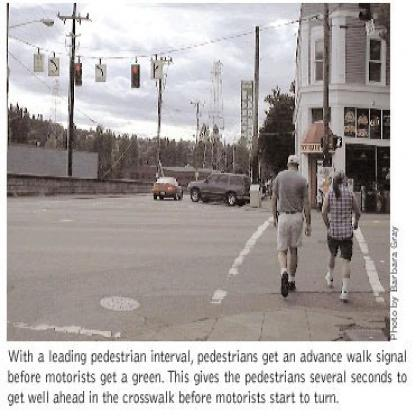Traffic Signal: (130, 63, 140, 89)
Walk: (333, 137, 344, 150)
